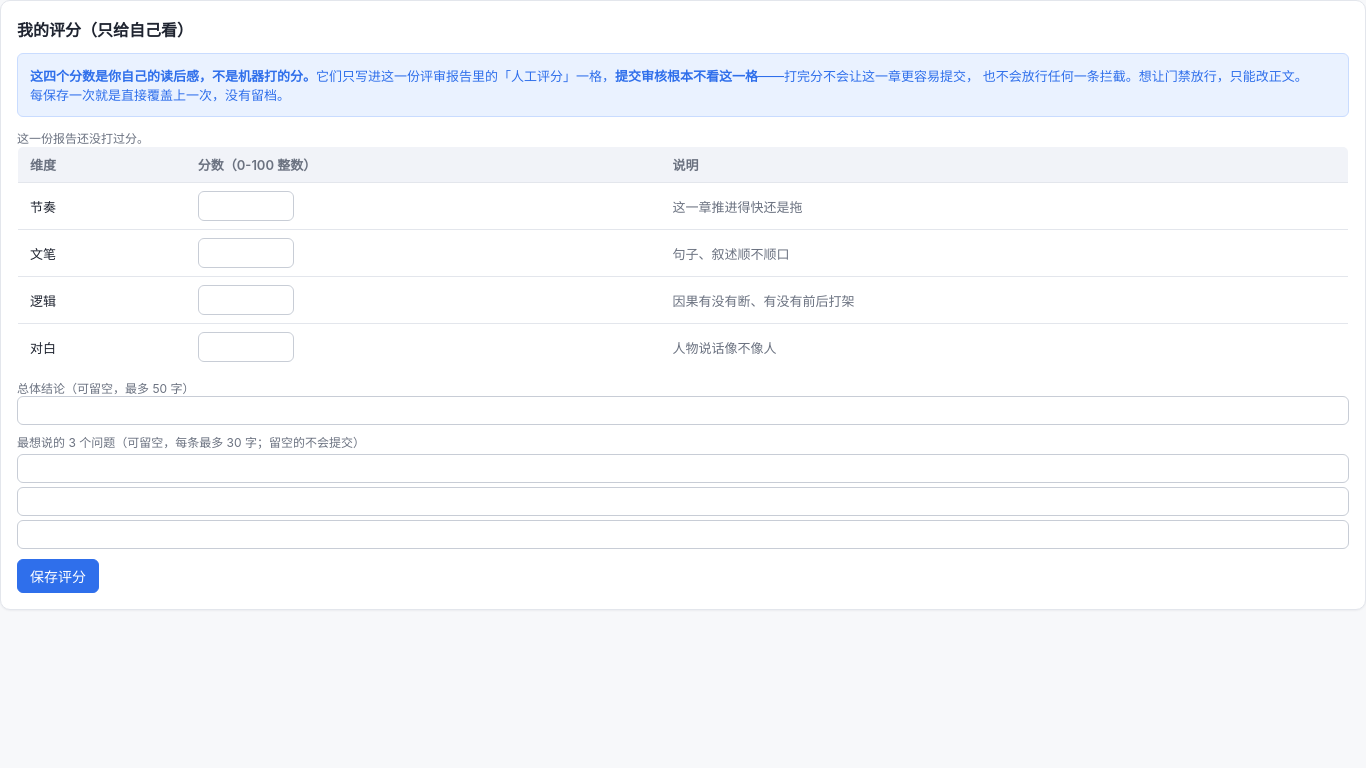
it: ChapterJudgeSection › 越界 ⇒ 前端夹到 0-100 后再发，且输入框回显夹后的值
Expected: the button with test id "judge-submit" is enabled, x1=17 y1=559 x2=99 y2=593
Type "150" into the field with test id "judge-score-pacing".
click(246, 206); type("150")  # box x1=198 y1=191 x2=294 y2=221
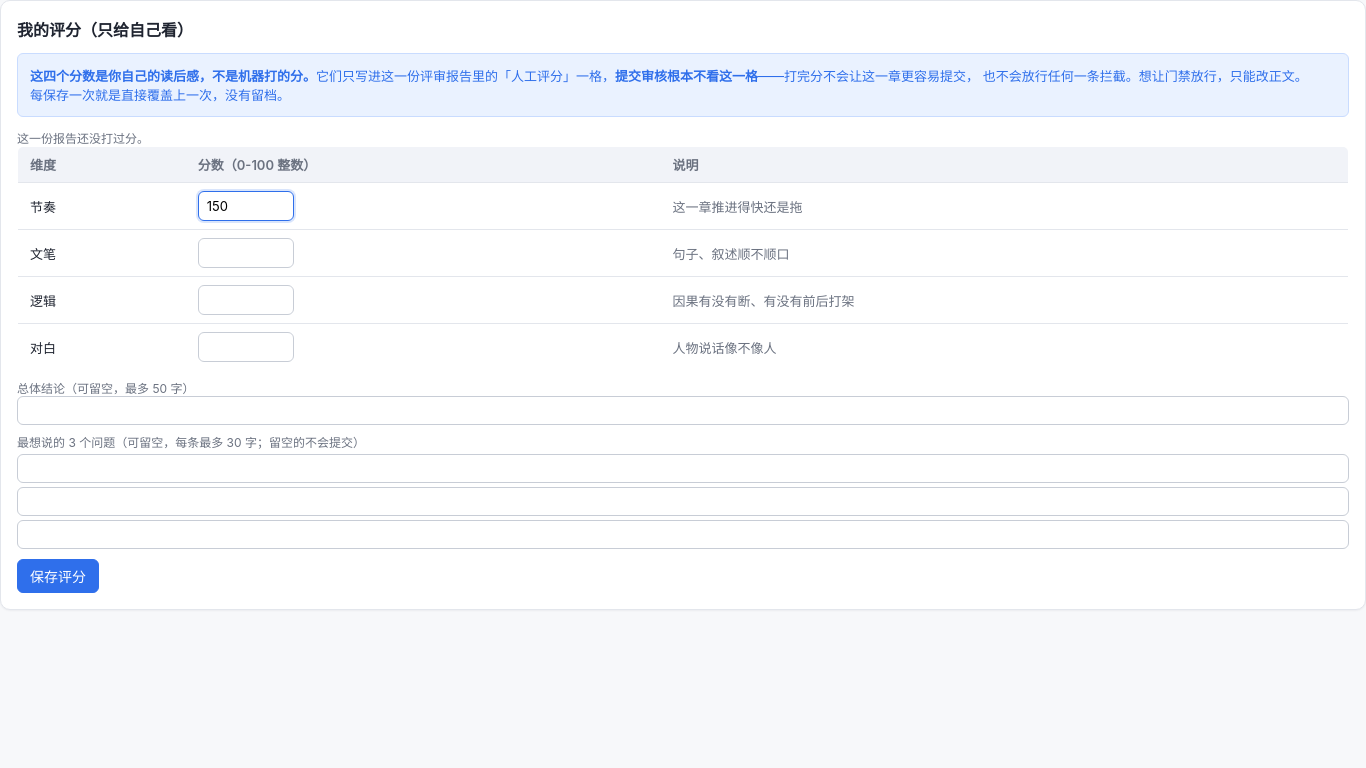
Type "-5" into the field with test id "judge-score-style".
click(246, 253); type("-5")  # box x1=198 y1=238 x2=294 y2=268
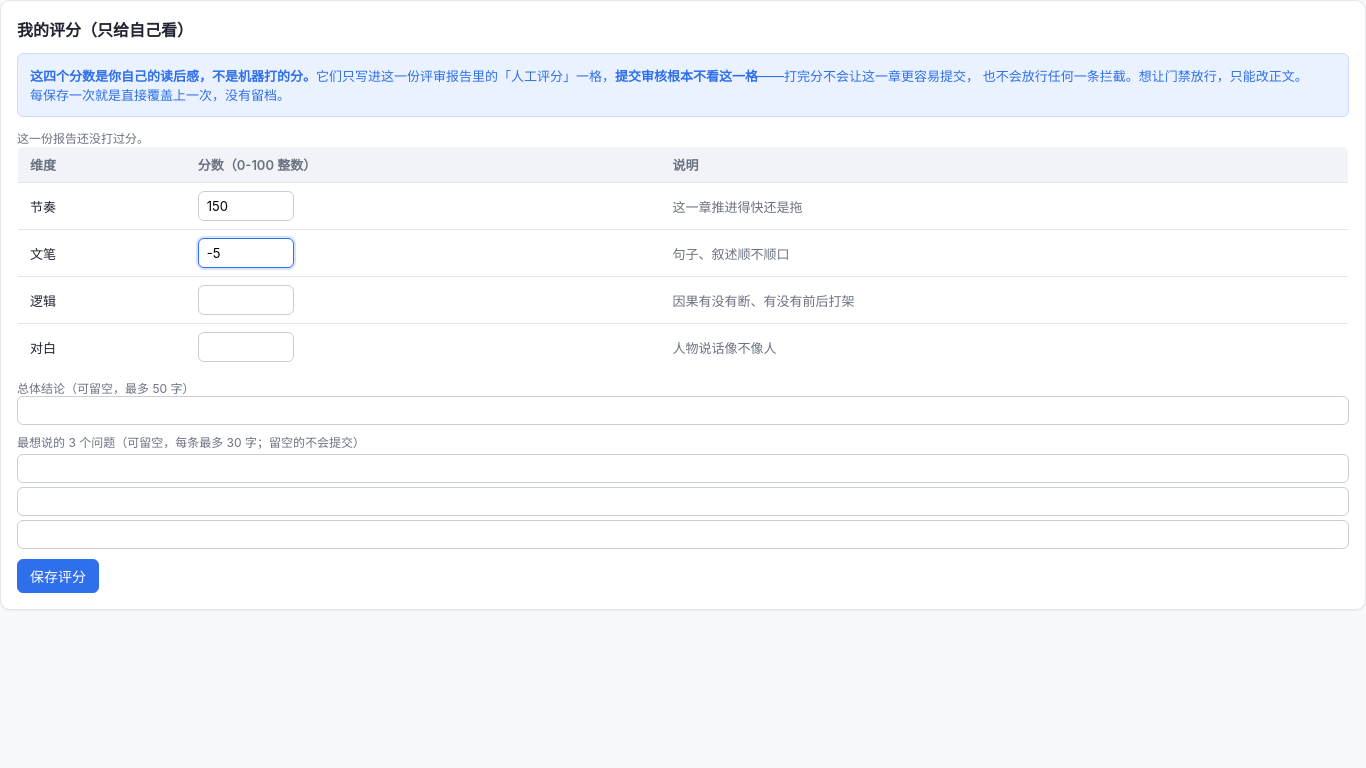
Type "50" into the field with test id "judge-score-logic".
click(246, 300); type("50")  # box x1=198 y1=285 x2=294 y2=315
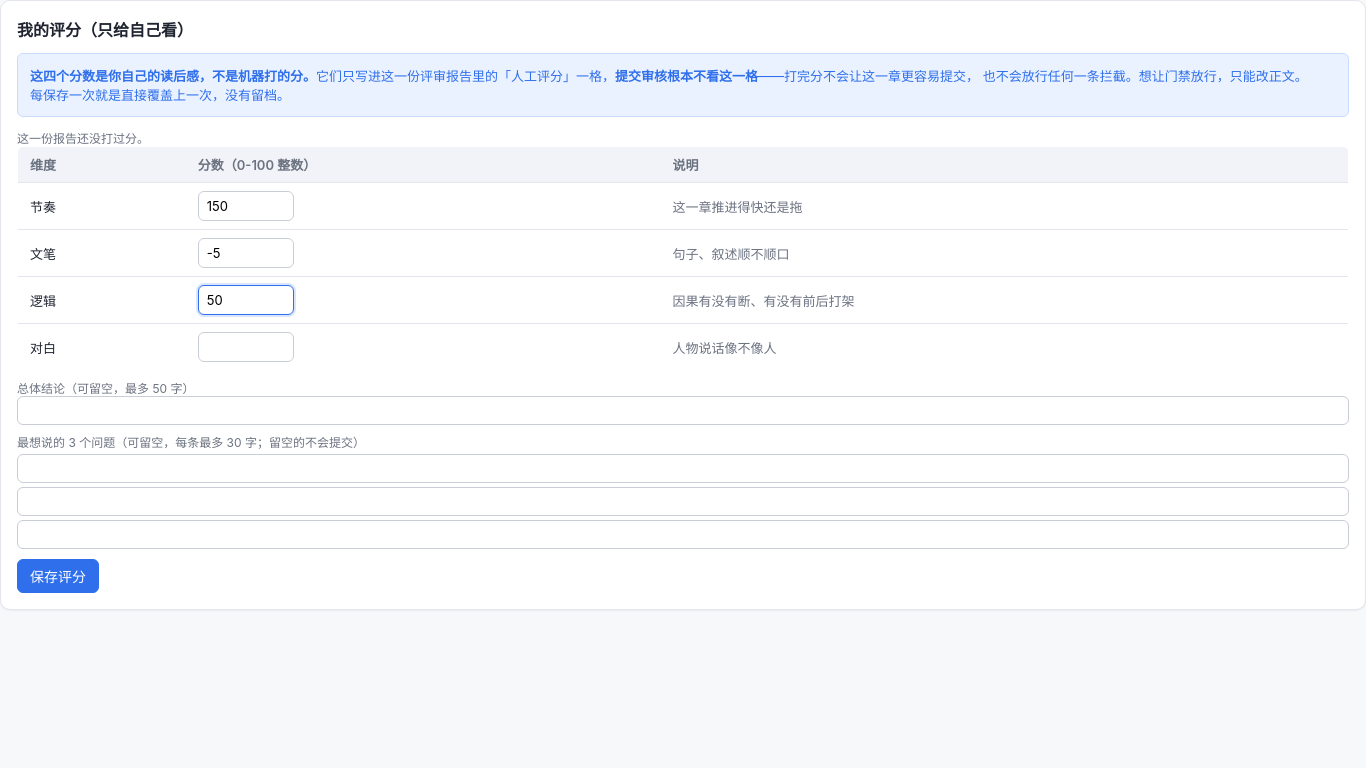
Type "50" into the field with test id "judge-score-dialogue".
click(246, 347); type("50")  # box x1=198 y1=332 x2=294 y2=362
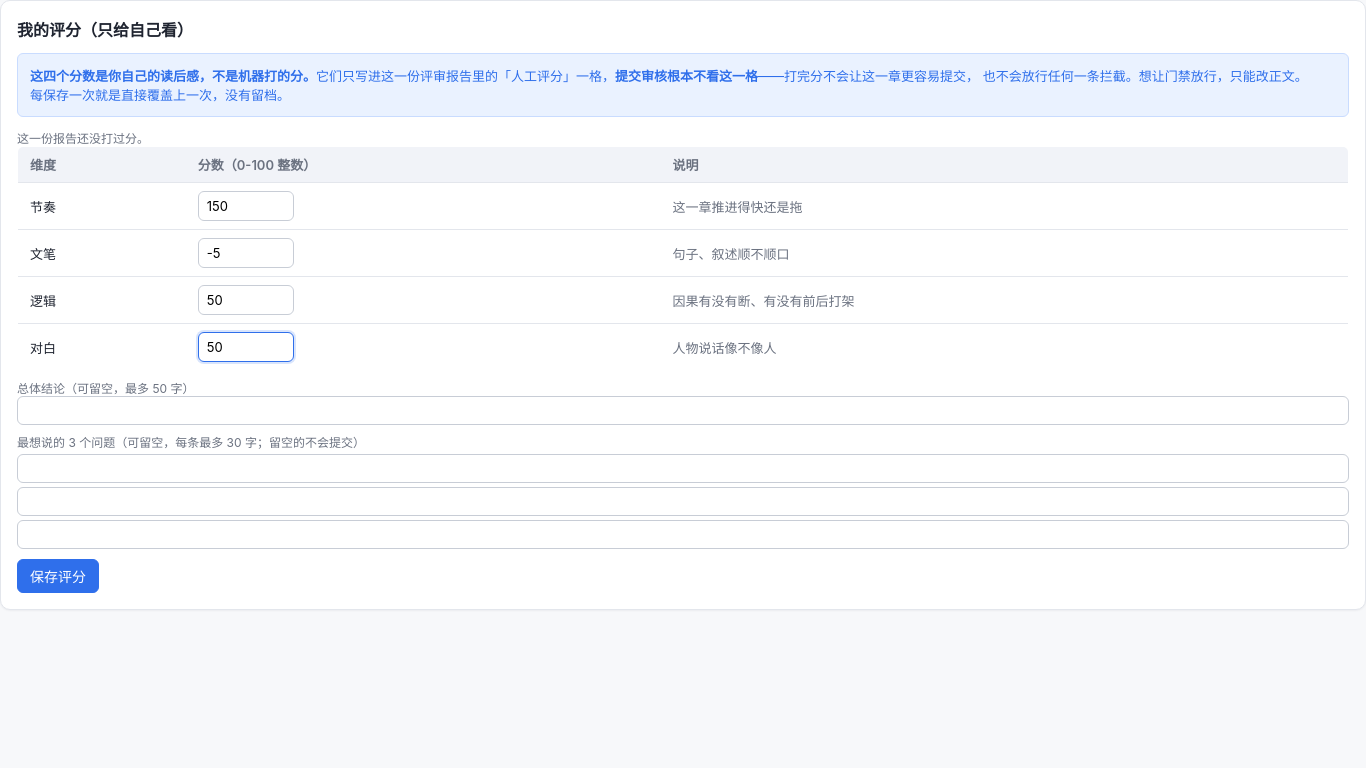
Click the button with test id "judge-submit".
click(58, 576)  # box x1=17 y1=559 x2=99 y2=593
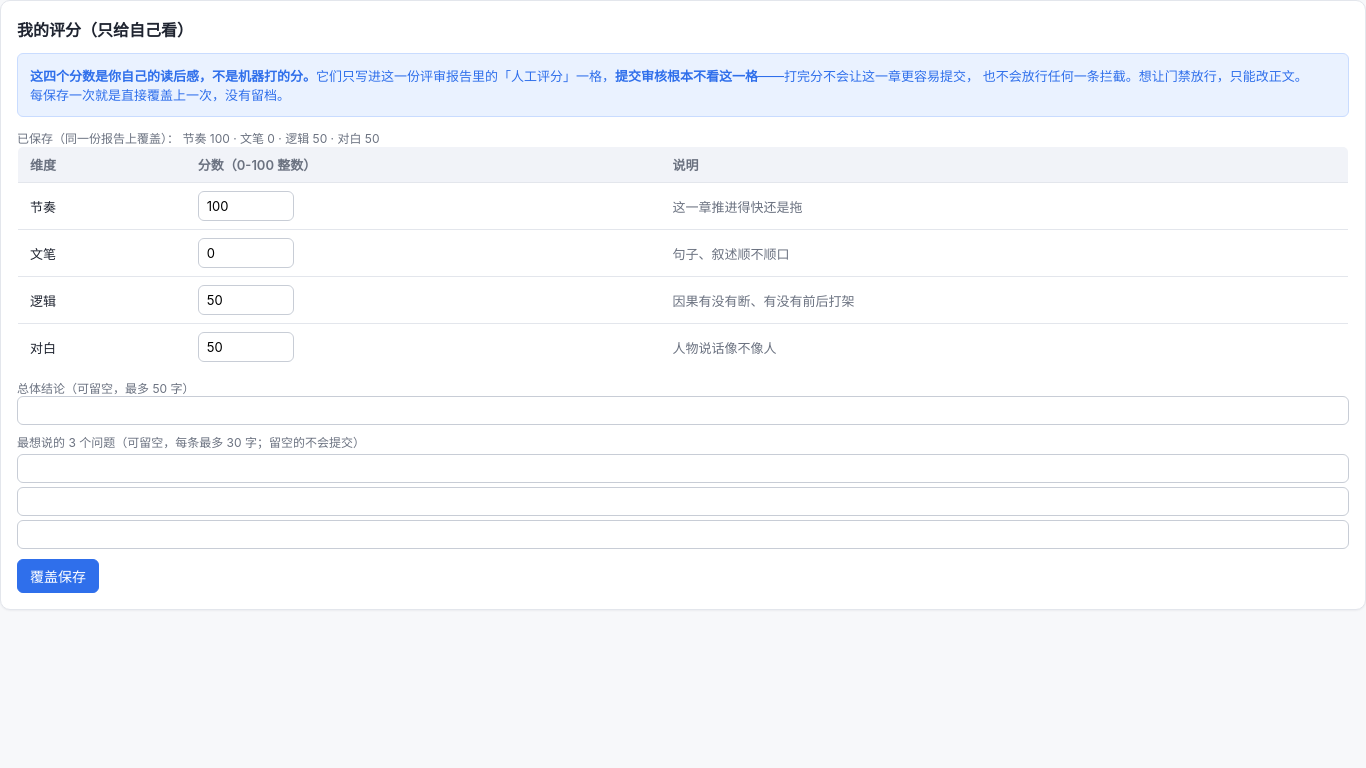
Result: the field with test id "judge-score-pacing" holds "100" at x1=198 y1=191 x2=294 y2=221
Result: the field with test id "judge-score-style" holds "0" at x1=198 y1=238 x2=294 y2=268
